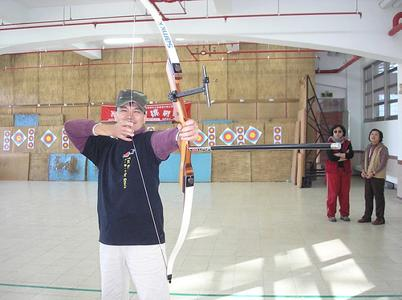person: (63, 89, 201, 299)
